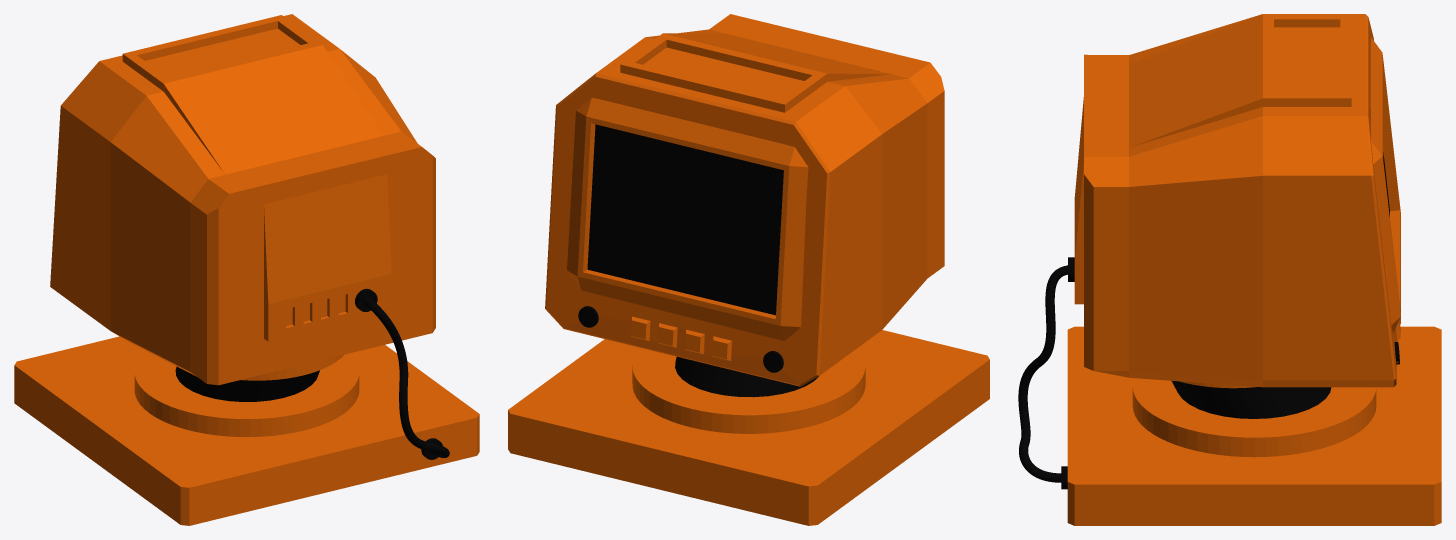
The model's file is asset.gltf.
3 renders of one model, left to right at view 1: azimuth 30°, elevation 25°; view 2: azimuth 150°, elevation 25°; view 3: azimuth 270°, elevation 25°, orthographic. The views are drawn at different scales.
Parts seen in each view (by area): view 1: Cube.007; view 2: Cube.007; view 3: Cube.007.
Part boxes in pixels (x1,y1,x2,y2): Cube.007: (14,14,479,525); Cube.007: (508,14,989,525); Cube.007: (1018,14,1441,525).
Size of the model in its own units: 1.28 by 1.47 by 1.45.
